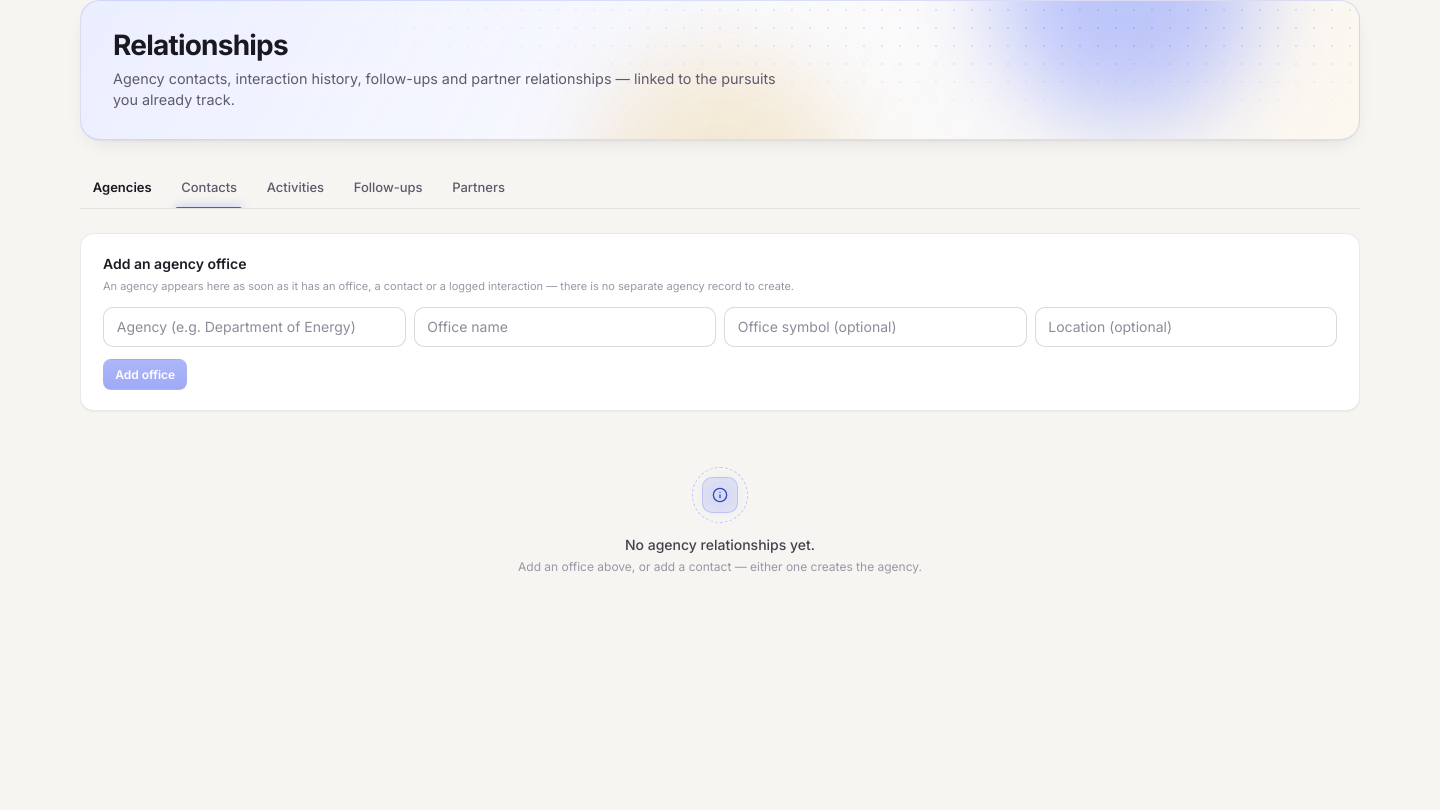
CRM page — linking an interaction to an opportunity › says plainly that linking records history and does not move the pipeline
Click the button "Contacts": (209, 188) x1=168 y1=168 x2=250 y2=208
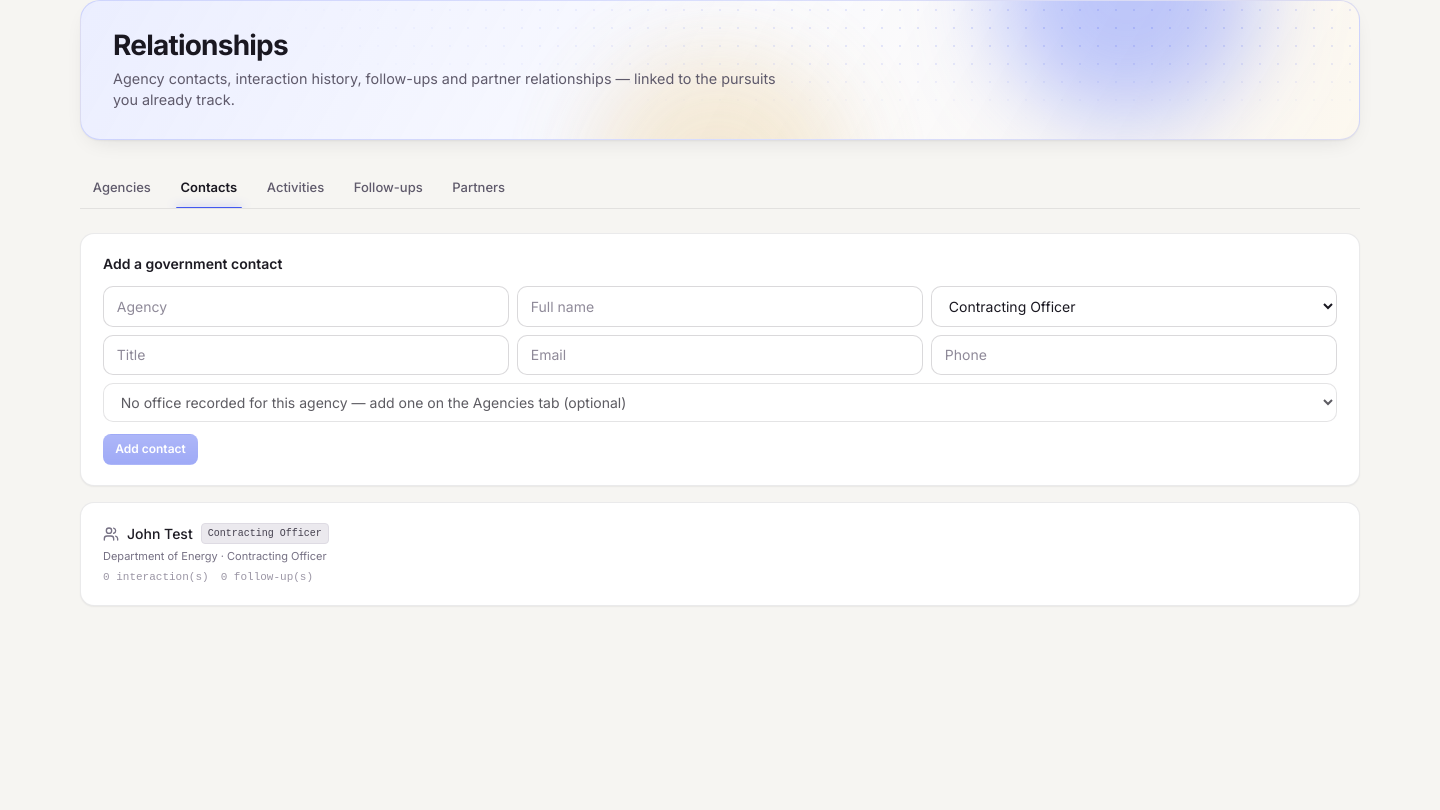
Click the text "John Test": (160, 534) x1=127 y1=524 x2=193 y2=544
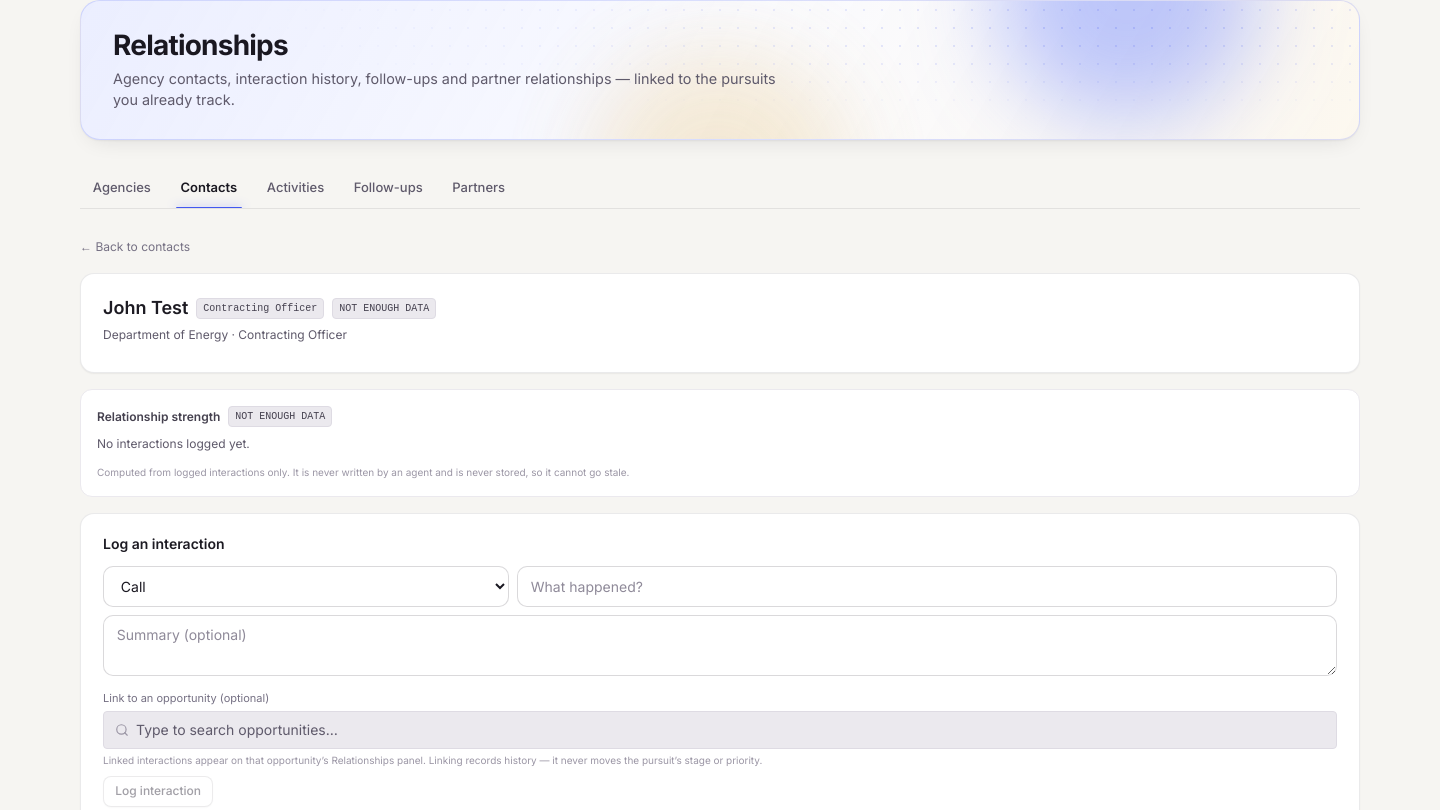
Expected: the text "never moves the pursuit" is shown, x1=103 y1=754 x2=762 y2=766
